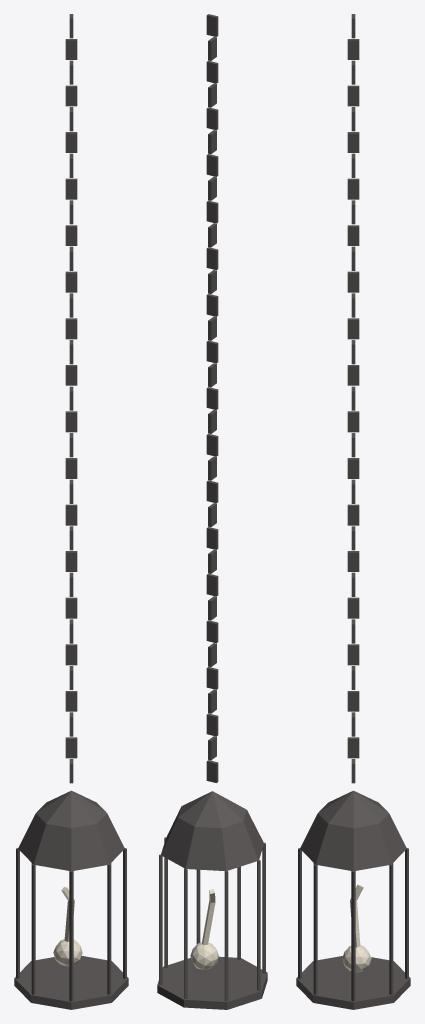
File: ChainCage.obj
The picture shows the model from 3 angles, left to right: view 1: azimuth 90°, elevation 25°; view 2: azimuth 150°, elevation 25°; view 3: azimuth 270°, elevation 25°; orthographic projection.
Visible parts, largest first — view 1: ChainCage; view 2: ChainCage; view 3: ChainCage.
Part boxes in pixels (box(x1,y1,x2,y2)): ChainCage: box(14, 14, 128, 1009); ChainCage: box(157, 14, 267, 1009); ChainCage: box(296, 14, 410, 1009).
Size of the model in its own units: 1.6 by 14.99 by 1.6.
Materials: 1 (1 with a texture image).
